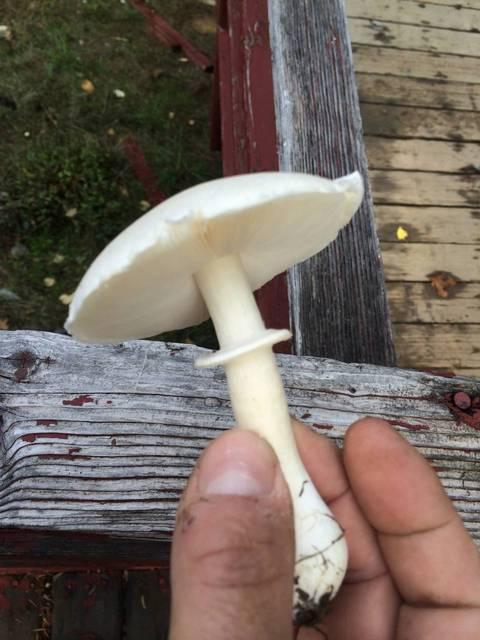Non-edible Mushroom: (62, 168, 365, 628)
